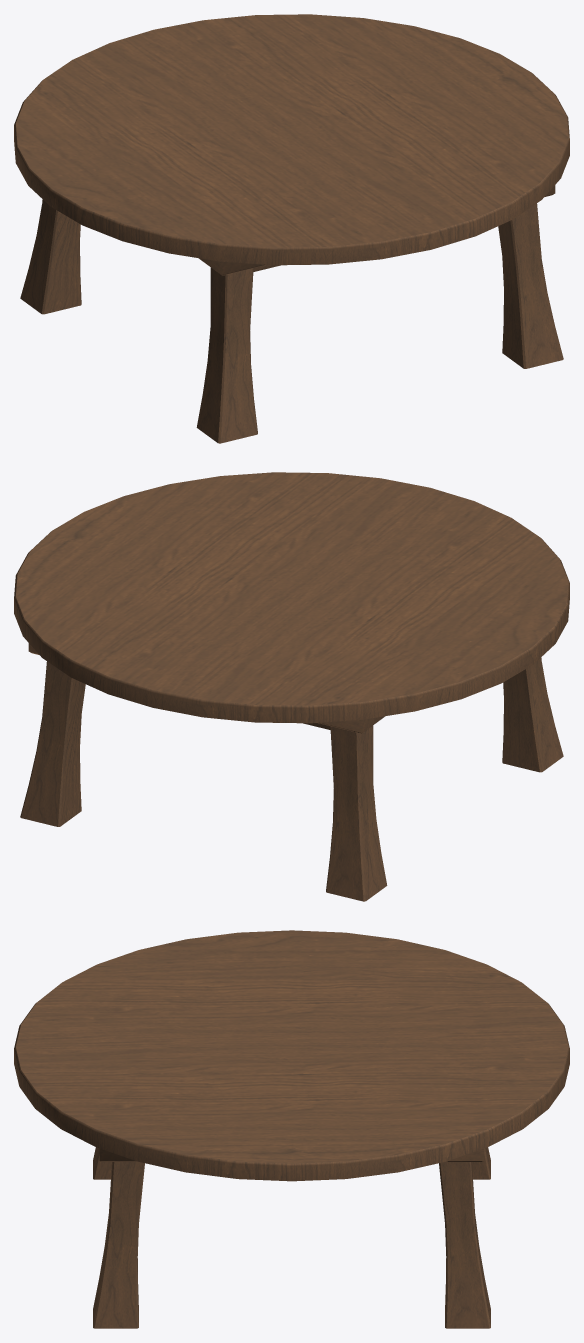
The model's file is LowDiningTable01.fbx.
3 views of the same model, one above another, from view 1: azimuth 30°, elevation 25°; view 2: azimuth 150°, elevation 25°; view 3: azimuth 270°, elevation 25° (orthographic).
Parts seen in each view (by area): view 1: LowDiningTable01; view 2: LowDiningTable01; view 3: LowDiningTable01.
Part boxes in pixels (x1=…): LowDiningTable01: x1=14, y1=14, x2=569, y2=443; LowDiningTable01: x1=14, y1=472, x2=569, y2=901; LowDiningTable01: x1=14, y1=930, x2=569, y2=1328.
Size of the model in its own units: 120 by 47 by 120.
